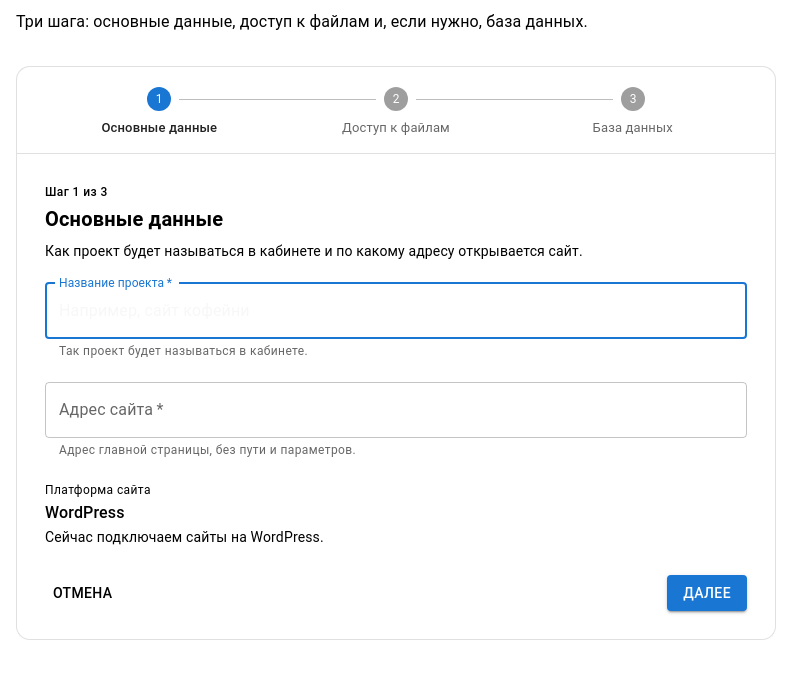
Test: a site without access to its files (docs/plan/57-browser-tasks.md, Б8) › goes back to the address when the server takes no address but https (Б33)
The image size is (793, 674).
Type "Кофейня" into the field labelled "Название проекта *" at (396, 311), box [45,283,747,339]
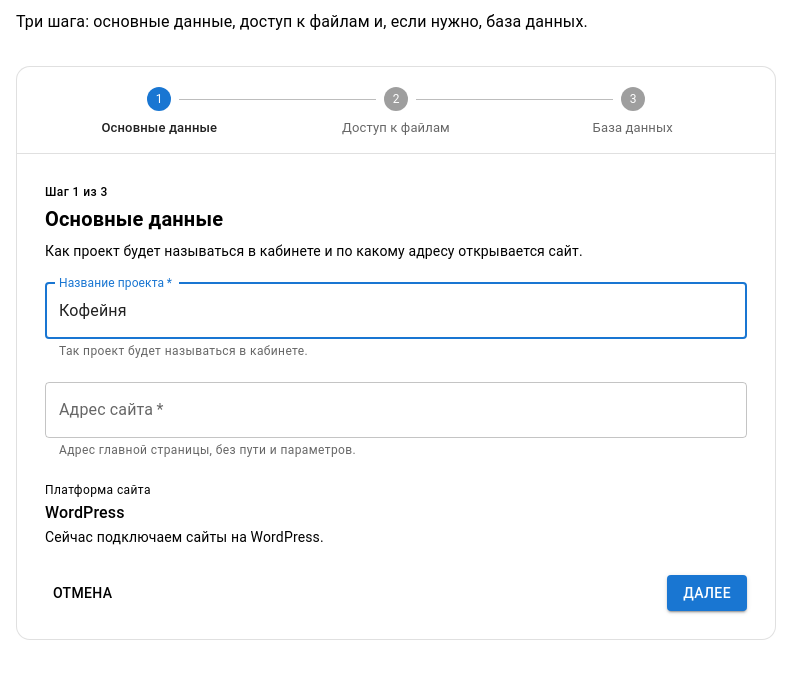
Type "example.ru" into the field labelled "Адрес сайта *" at (396, 410), box [45,382,747,438]
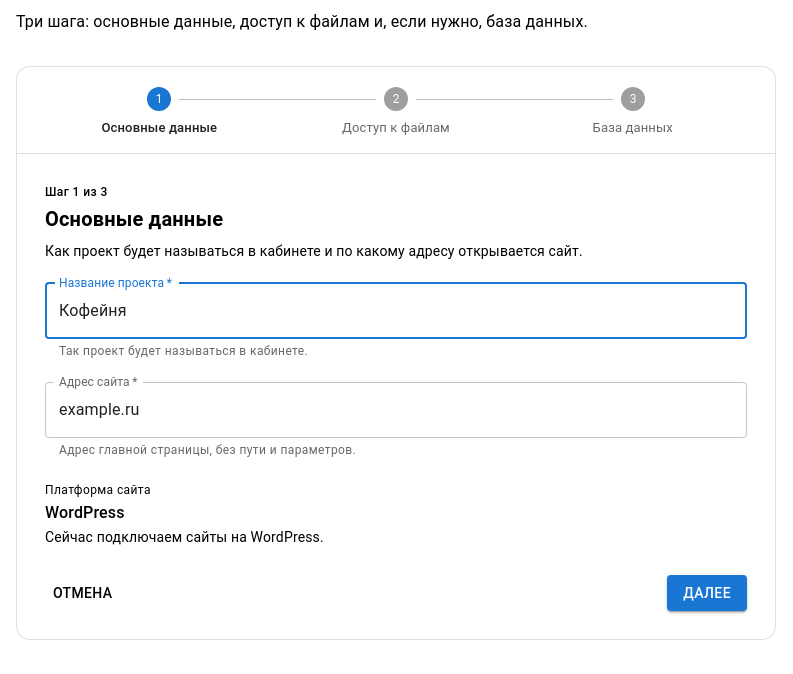
Click the button "Далее" at (707, 593), box [667,575,747,611]
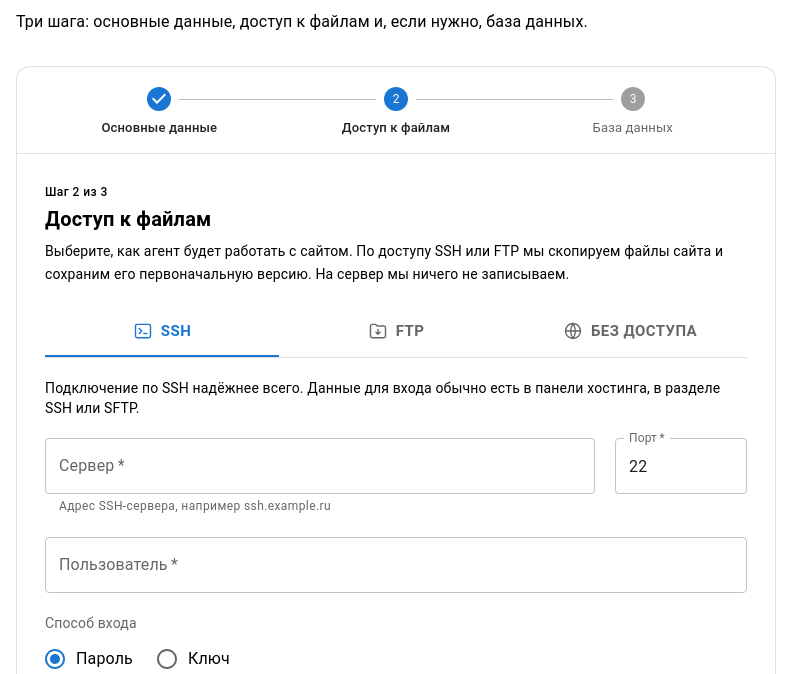
Expected: the heading "Доступ к файлам" is shown, [45,208,211,232]
Click the tab with aria-label "Без доступа к файлам" at (630, 331), box [513,305,747,357]
(page scrolled)
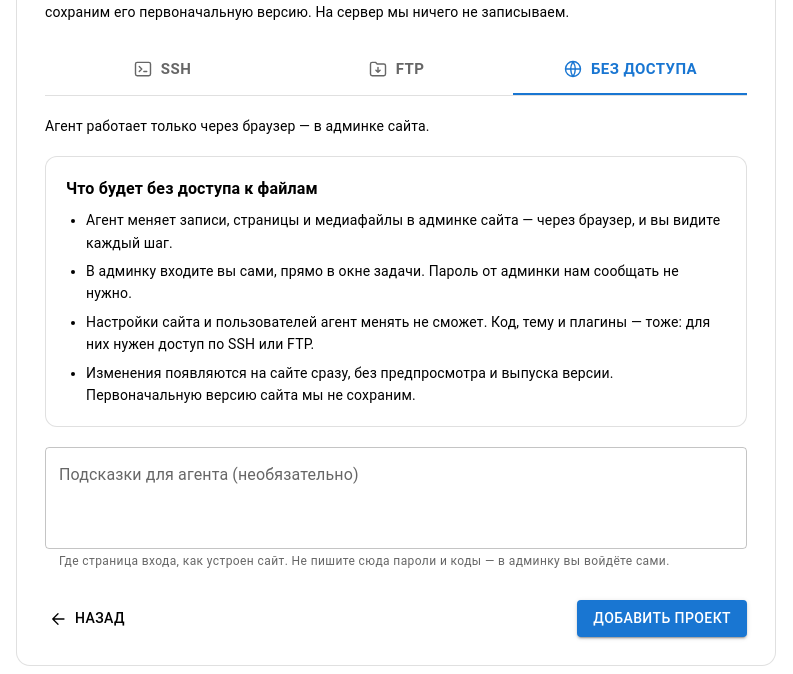
Click the button "Добавить проект" at (662, 619), box [577,600,747,637]
(page scrolled)
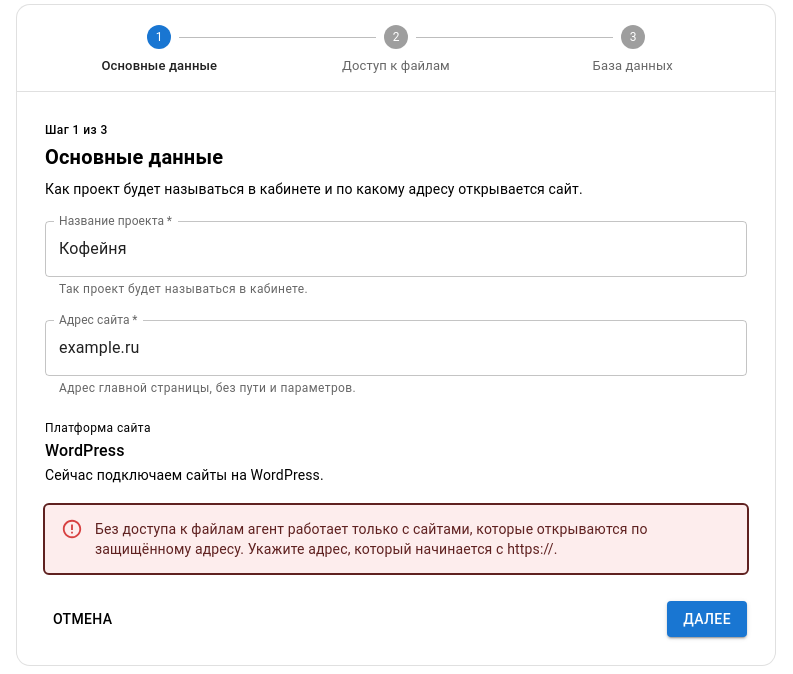
Expected: the heading reads "Основные данные", [45,146,223,170]
Expected: the 1st message shows "Без доступа к файлам агент работает только с сайтами, которые открываются по защищённому адресу. Укажите адрес, который начинается с https://", [95,521,648,557]
Expected: the field labelled "Адрес сайта *" holds "example.ru", [45,320,747,376]
